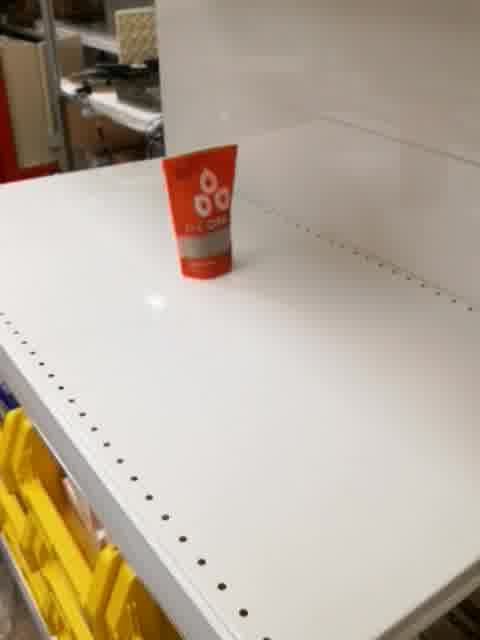whitechia: (160, 137, 239, 282)
